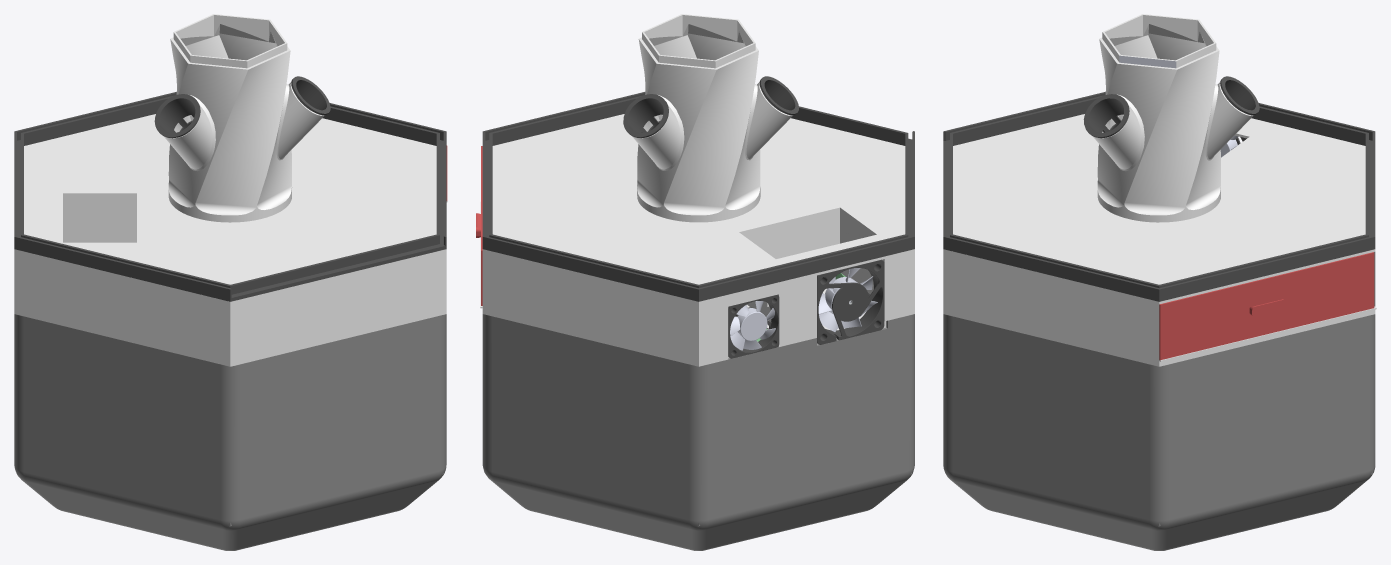
File: mini_cs.glb
3 renders of one model, left to right at view 1: azimuth 30°, elevation 25°; view 2: azimuth 150°, elevation 25°; view 3: azimuth 270°, elevation 25°, orthographic.
Visible parts, largest first — view 1: tank - Copy, masterBed, primeGear, acryclicHold; view 2: tank - Copy, masterBed, primeGear, acryclicHold, ExhaustFan.001, RotorBlades, MotorHouse, RotorBlades.001; view 3: tank - Copy, masterBed, primeGear, acryclicHold, CircuitBed, CBLid.001.
Boxes of the visible parts, bbox=[...] form: tank - Copy: bbox=[14, 314, 446, 550]; masterBed: bbox=[14, 114, 446, 366]; primeGear: bbox=[154, 14, 330, 222]; acryclicHold: bbox=[14, 91, 446, 301]; tank - Copy: bbox=[482, 293, 914, 550]; masterBed: bbox=[482, 114, 914, 366]; primeGear: bbox=[623, 14, 798, 222]; acryclicHold: bbox=[482, 92, 914, 301]; ExhaustFan.001: bbox=[817, 259, 884, 344]; RotorBlades: bbox=[730, 301, 775, 350]; MotorHouse: bbox=[728, 294, 779, 358]; RotorBlades.001: bbox=[818, 268, 877, 332]; tank - Copy: bbox=[943, 314, 1375, 550]; masterBed: bbox=[943, 114, 1375, 366]; primeGear: bbox=[1083, 14, 1259, 222]; acryclicHold: bbox=[943, 92, 1375, 301]; CircuitBed: bbox=[1159, 252, 1374, 360]; CBLid.001: bbox=[1159, 306, 1376, 361].
Size of the model in its own units: 0.2574 by 0.2448 by 0.2226.
